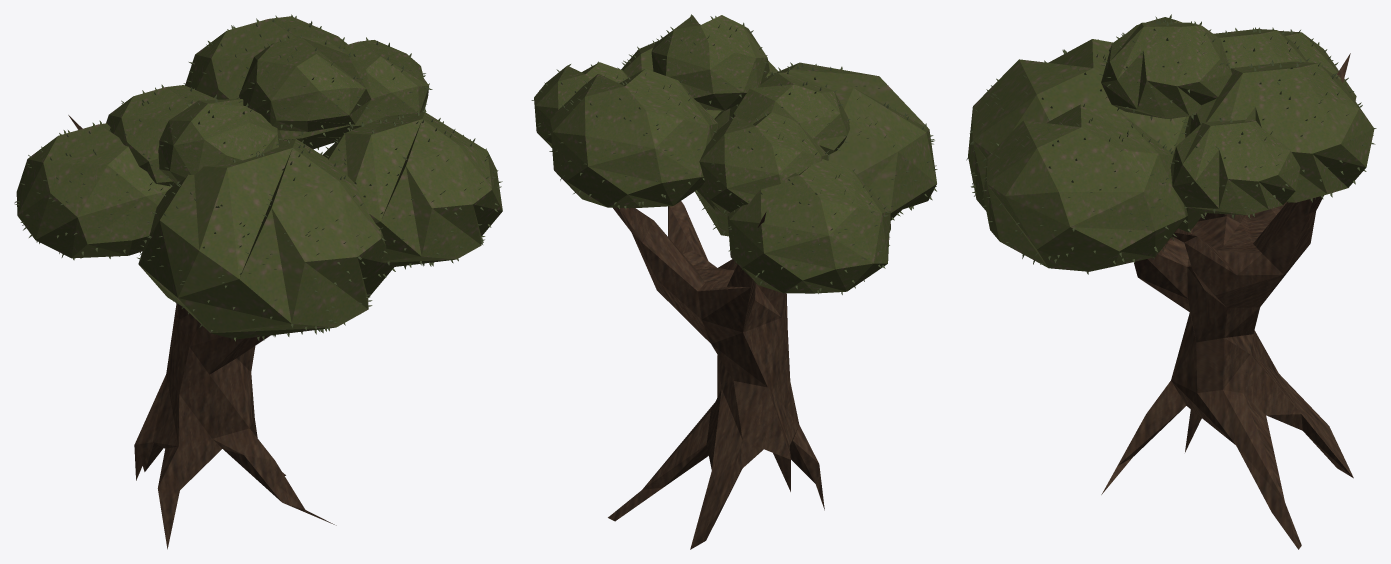
File: Arvore_A_Com_Folhas.fbx
The picture shows the model from 3 angles, left to right: view 1: azimuth 30°, elevation 25°; view 2: azimuth 150°, elevation 25°; view 3: azimuth 270°, elevation 25°; orthographic projection. The views are drawn at different scales.
Parts seen in each view (by area): view 1: Arvore_A_Topo, Arvore_A; view 2: Arvore_A_Topo, Arvore_A; view 3: Arvore_A_Topo, Arvore_A.
Part boxes in pixels (x1,y1,x2,y2): Arvore_A_Topo: (14,14,502,341); Arvore_A: (68,115,336,549); Arvore_A_Topo: (531,14,937,294); Arvore_A: (608,201,824,549); Arvore_A_Topo: (966,14,1376,274); Arvore_A: (1101,53,1353,549).
Bounding box in the file's own units: 951 × 1163 × 861.
3 materials, 3 textured.
